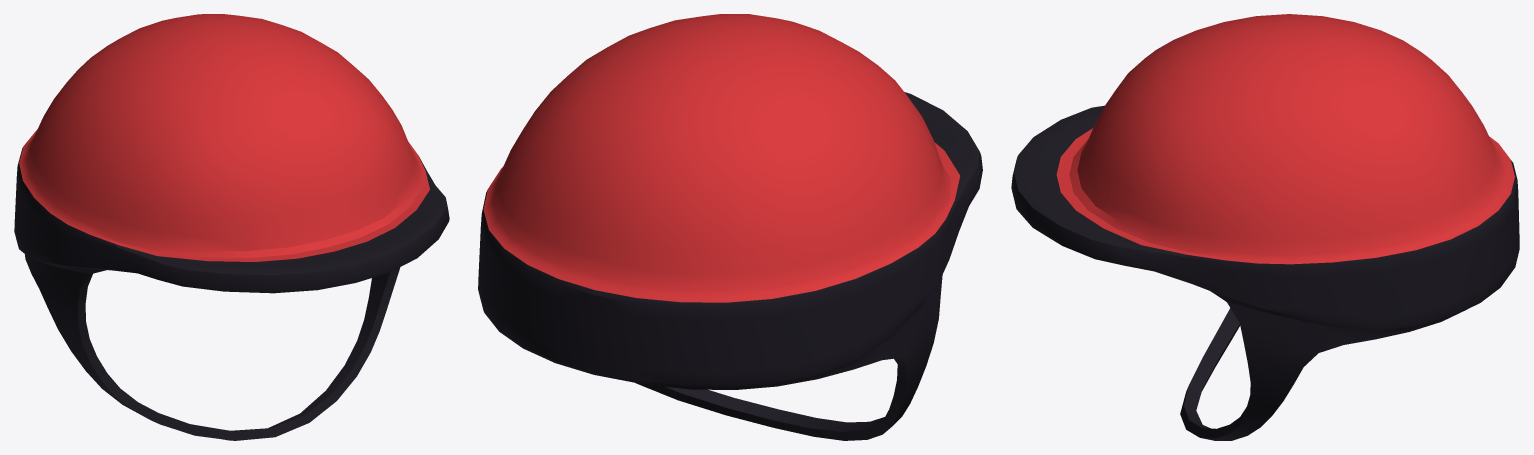
3 views of the same model, side by side, from view 1: azimuth 30°, elevation 25°; view 2: azimuth 150°, elevation 25°; view 3: azimuth 270°, elevation 25° (orthographic). The views are drawn at different scales.
Visible parts, largest first — view 1: helmet; view 2: helmet; view 3: helmet.
Part boxes in pixels (x1,y1,x2,y2): helmet: (14,14,449,440); helmet: (478,14,982,440); helmet: (1011,14,1519,440).
Size of the model in its own units: 2.13 by 2.12 by 2.54.
